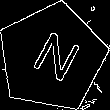N_SW: (22, 26, 82, 89)
